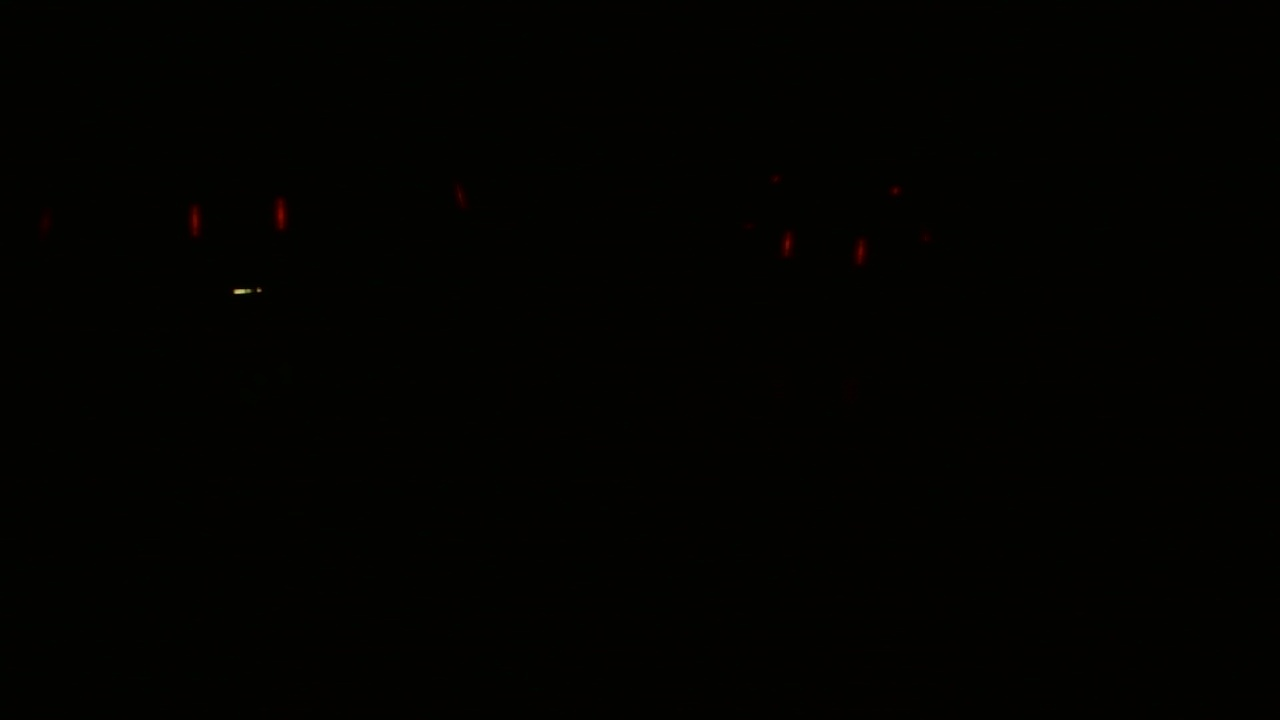pair1: (178, 180, 302, 250)
pair2: (772, 224, 881, 278)
